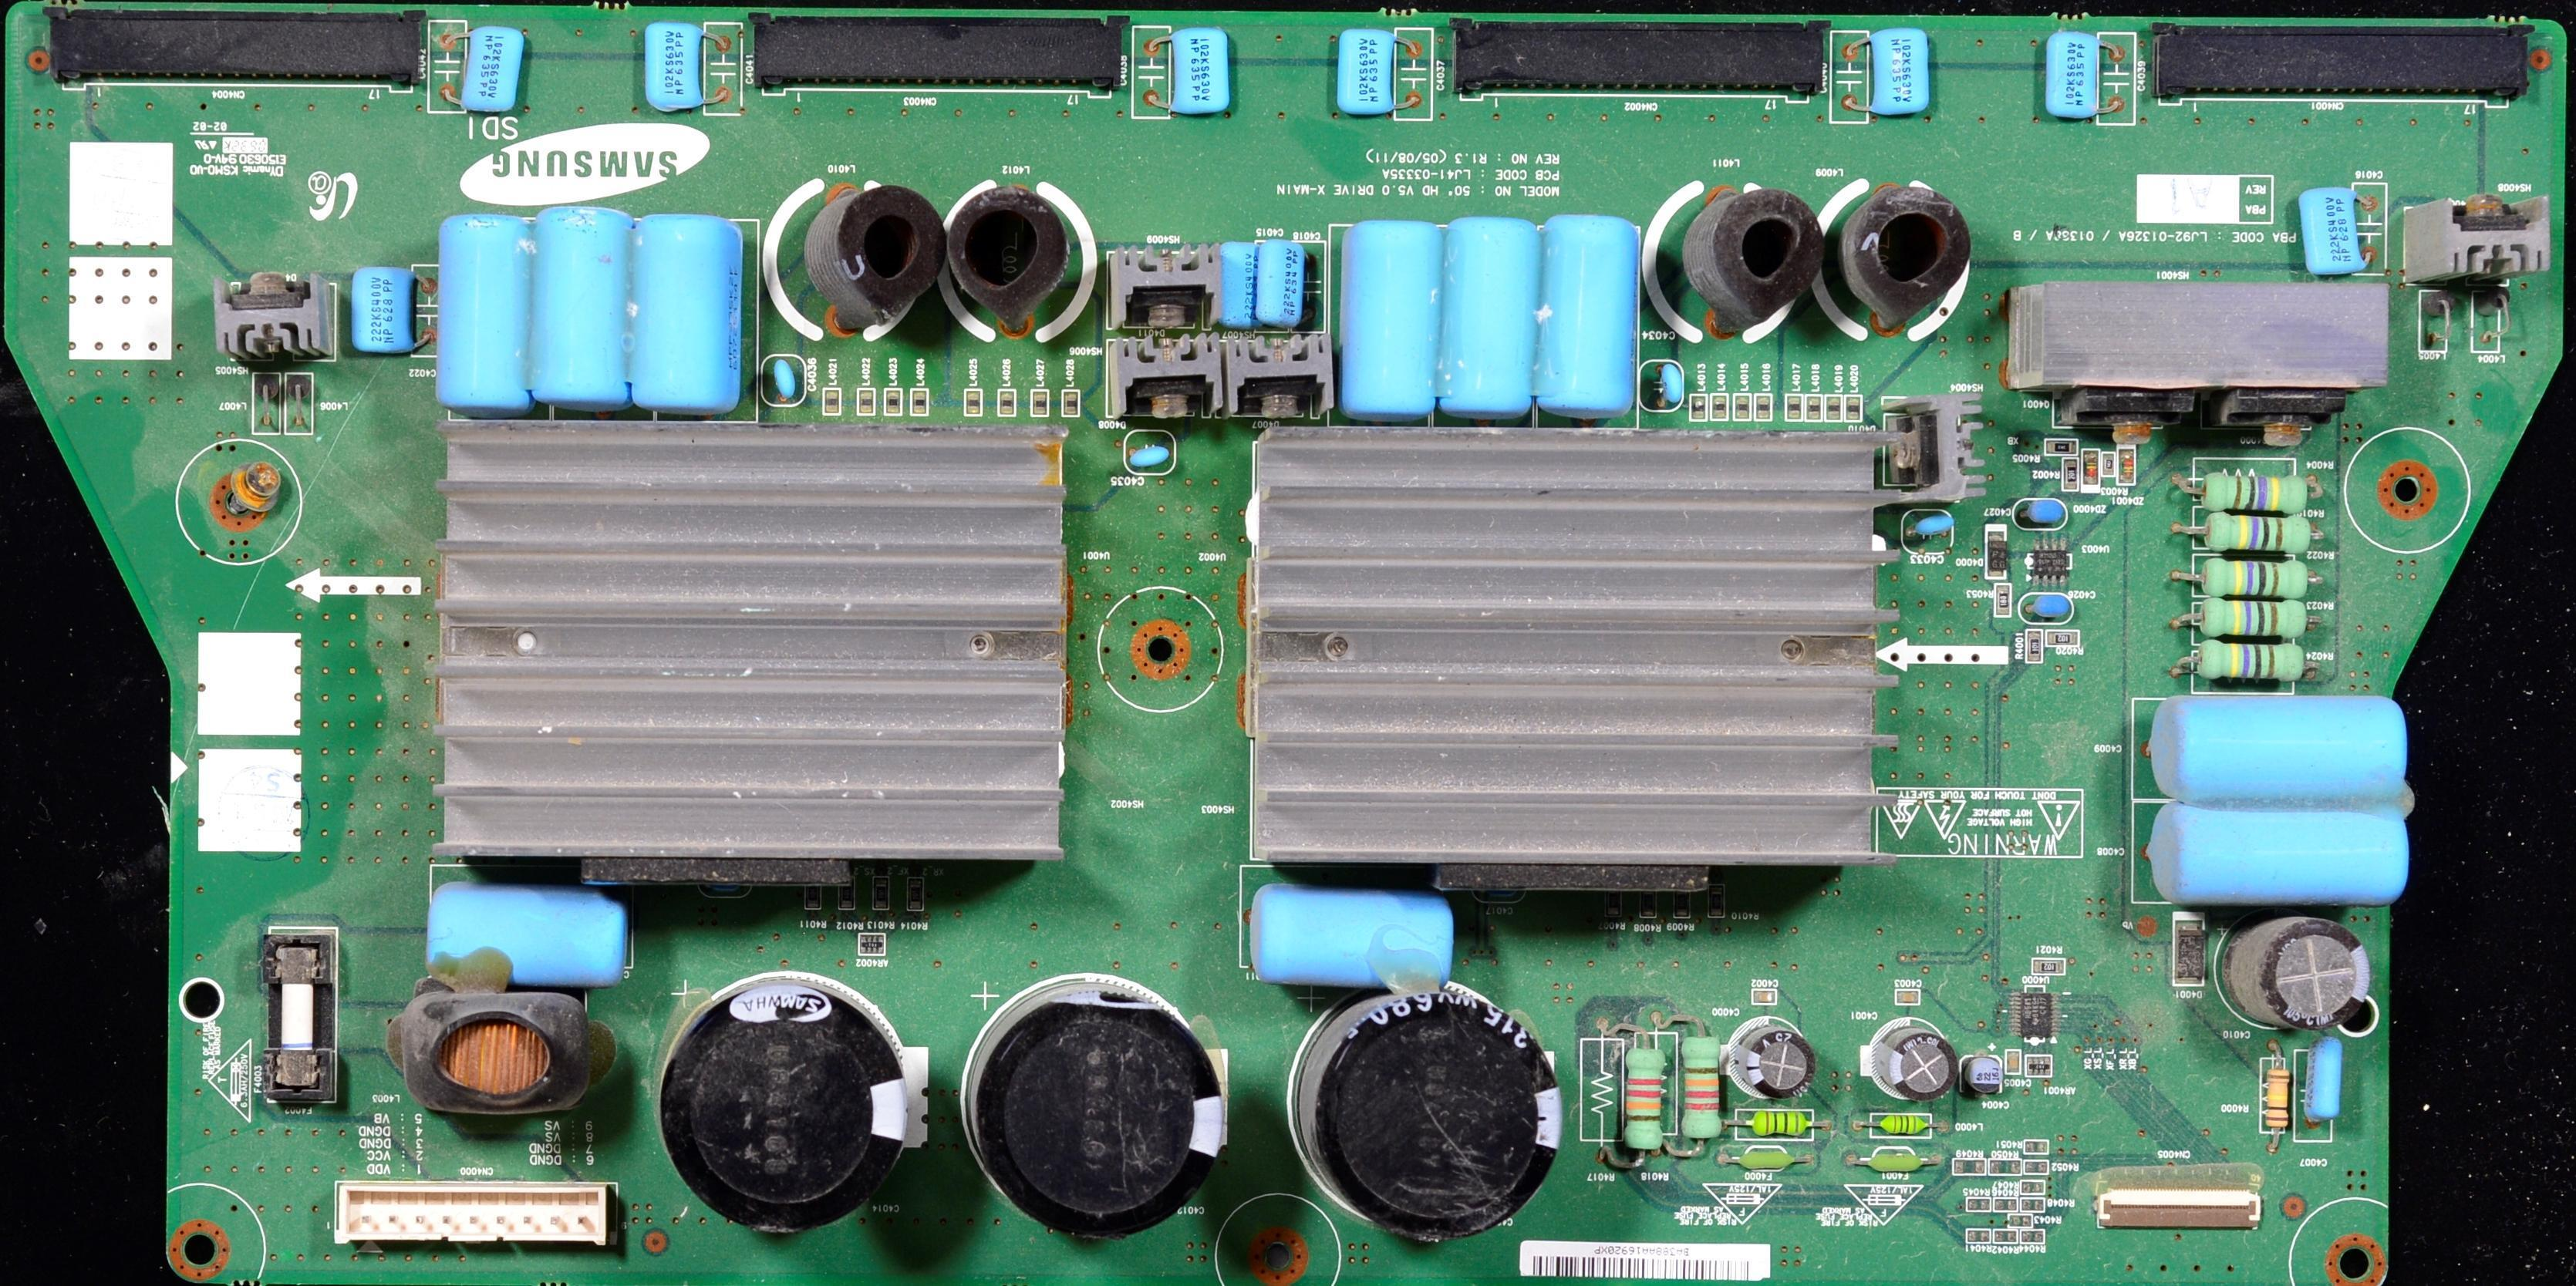Capacitor: (974, 991, 1225, 1252), (1309, 994, 1558, 1240), (669, 986, 892, 1229), (1242, 872, 1476, 1001), (2149, 696, 2415, 806), (2151, 807, 2415, 909), (423, 875, 636, 994), (636, 215, 747, 413), (1340, 219, 1440, 420), (437, 217, 538, 408), (1443, 214, 1535, 417), (1545, 214, 1634, 419), (538, 206, 629, 402), (2244, 917, 2375, 1035), (1873, 1022, 1962, 1106), (643, 23, 730, 112), (442, 30, 530, 116), (348, 268, 430, 359), (2297, 183, 2375, 275), (1733, 1028, 1817, 1105), (1261, 239, 1310, 325), (2301, 1035, 2342, 1135), (1223, 237, 1261, 326), (1962, 1049, 2004, 1101), (760, 361, 803, 405), (2025, 594, 2076, 625), (1649, 362, 1683, 408), (1131, 434, 1169, 470), (1909, 515, 1958, 544), (1890, 973, 1927, 1007), (2019, 500, 2065, 527), (1748, 968, 1780, 1007), (2005, 1047, 2021, 1077)
Connector: (334, 1178, 618, 1254), (2094, 1190, 2265, 1230)
IC: (2005, 983, 2062, 1044), (2026, 533, 2079, 589), (577, 1160, 579, 1163)
Resistor: (1592, 1006, 1671, 1174), (2166, 456, 2327, 510), (2173, 507, 2336, 557), (2171, 637, 2330, 686), (2173, 556, 2338, 598), (2171, 594, 2333, 638), (1677, 1002, 1722, 1147), (2263, 1057, 2290, 1144), (801, 873, 831, 936), (895, 871, 931, 922), (831, 874, 865, 925), (869, 870, 896, 922), (1707, 879, 1731, 931), (1601, 889, 1629, 931), (1672, 886, 1692, 931), (1637, 888, 1661, 924), (2046, 627, 2082, 648), (2062, 456, 2082, 490), (2119, 444, 2136, 483), (2040, 436, 2078, 451), (1951, 1157, 1988, 1174), (2035, 954, 2064, 974), (1992, 1194, 2018, 1213), (2027, 628, 2042, 659), (1990, 1160, 2021, 1173), (1994, 584, 2008, 614), (2024, 1141, 2049, 1156), (2021, 1197, 2045, 1213), (1996, 1227, 2016, 1244), (2027, 1157, 2047, 1174), (2023, 1228, 2044, 1244), (1971, 1230, 1991, 1245), (1967, 1197, 1989, 1211), (2021, 1182, 2044, 1193), (2010, 1214, 2030, 1224)
